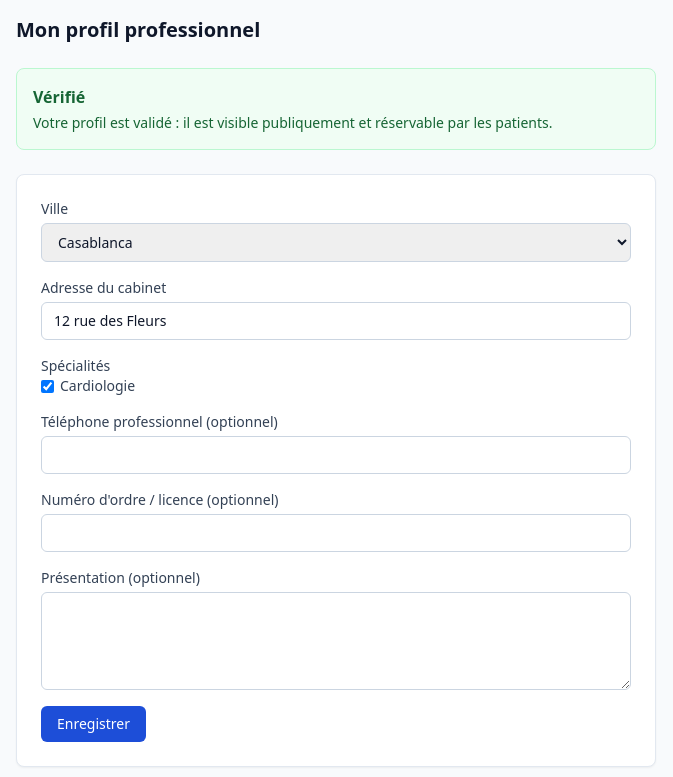
Scenario: DoctorDashboardProfilePage › édition : pré-remplit le formulaire à partir du profil existant et affiche le succès de mise à jour
expect the heading "Mon profil professionnel" is shown: met, box [16,16,260,43]
expect the field labelled "Adresse du cabinet" holds "12 rue des Fleurs": met, box [41,302,631,340]
Click the button "Enregistrer": (94, 724) [41,706,146,742]
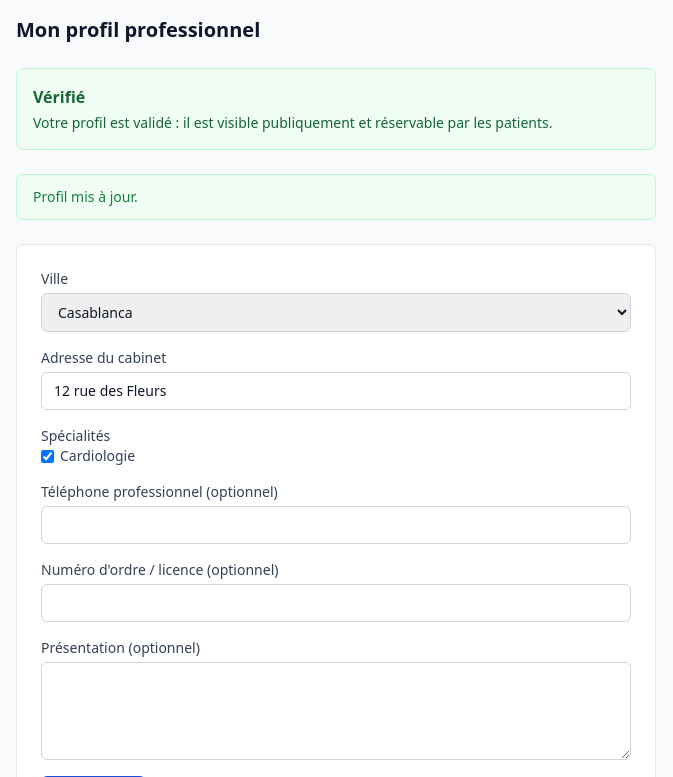
expect the text "Profil mis à jour." is shown: met, box [16,174,656,220]
